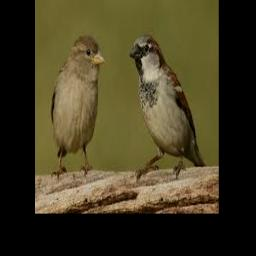Sparrow: (130, 34, 207, 178), (51, 35, 106, 180)
